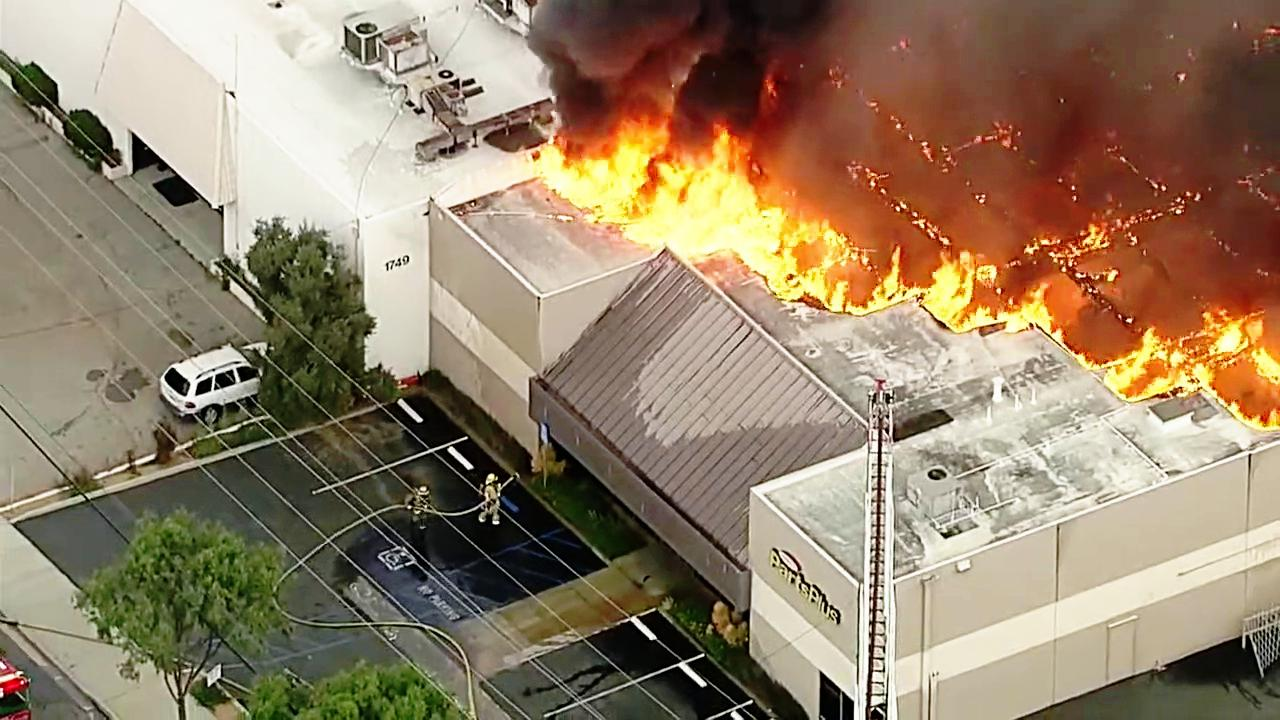fire: (544, 112, 786, 263), (787, 244, 1000, 324), (1117, 307, 1263, 406)
smoke: (509, 0, 752, 120)
